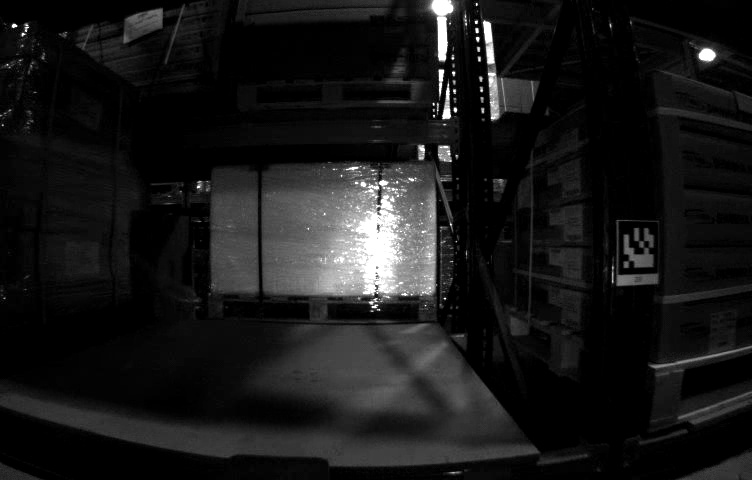True Barcode: (706, 309, 738, 354)
